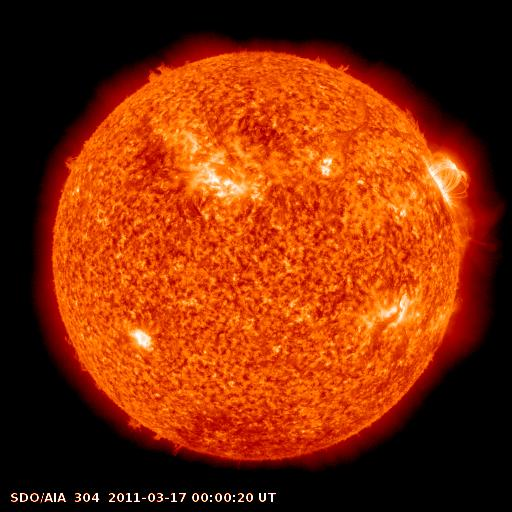prominence: (115, 408, 193, 462), (134, 51, 205, 88), (394, 98, 435, 154), (306, 48, 363, 81), (55, 137, 87, 181)
